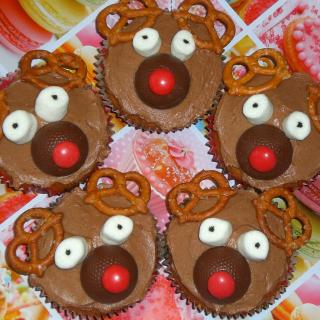Cake: (5, 167, 156, 314), (165, 171, 314, 317), (97, 0, 234, 134), (0, 47, 108, 196), (211, 46, 320, 192)
Cookie: (162, 188, 298, 320), (27, 182, 157, 316), (102, 10, 223, 132), (210, 72, 320, 193), (0, 73, 109, 188)
Muffin: (4, 166, 164, 320), (157, 166, 310, 320), (203, 45, 320, 194), (0, 48, 115, 196), (103, 26, 224, 142)
